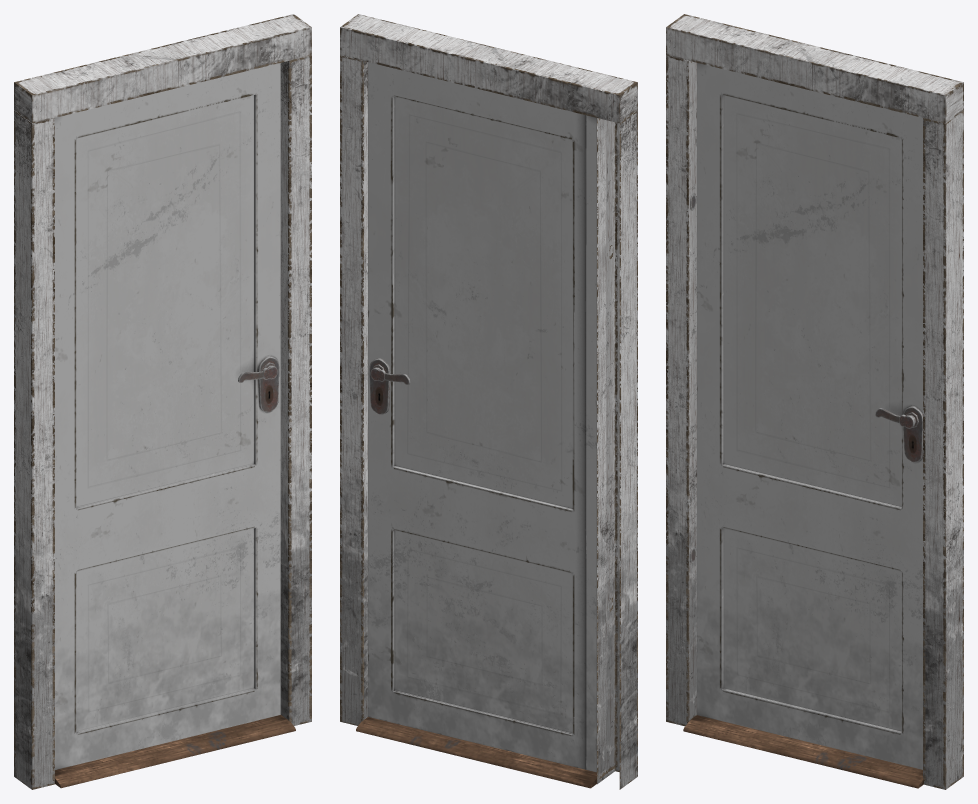
File: door_frame.glb
3 views of the same model, side by side, from view 1: azimuth 30°, elevation 25°; view 2: azimuth 150°, elevation 25°; view 3: azimuth 330°, elevation 25° (orthographic).
Visible parts, largest first — view 1: Door__0, Door__0.002; view 2: Door__0, Door__0.002; view 3: Door__0, Door__0.002.
Boxes of the visible parts, x1=… form: Door__0: x1=55, y1=63, x2=280, y2=769; Door__0.002: x1=14, y1=14, x2=311, y2=789; Door__0: x1=368, y1=62, x2=596, y2=772; Door__0.002: x1=340, y1=14, x2=637, y2=789; Door__0: x1=697, y1=63, x2=922, y2=769; Door__0.002: x1=666, y1=14, x2=963, y2=789.
Bounding box in the file's own units: 0.5656 × 1.34 × 0.1046.
1 material, 1 textured.
